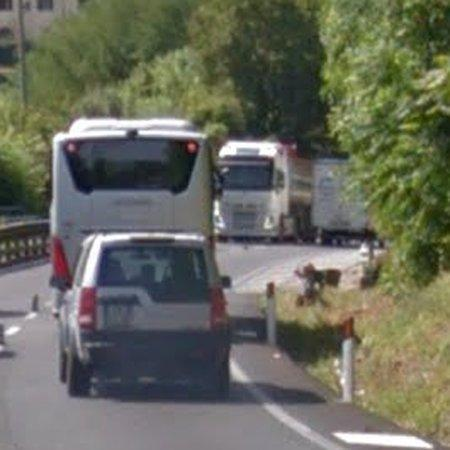buses: (50, 118, 212, 289)
